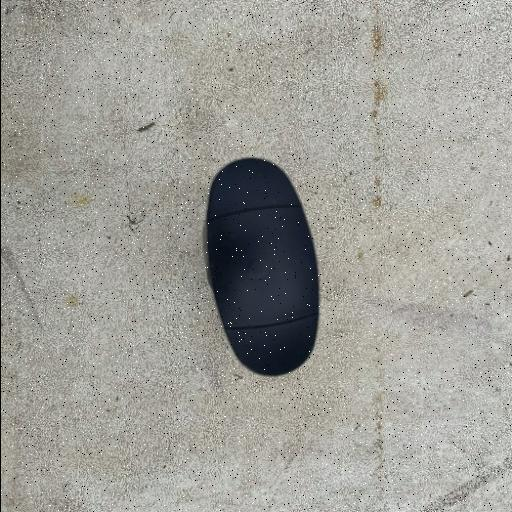Plastic: (202, 154, 322, 378)
